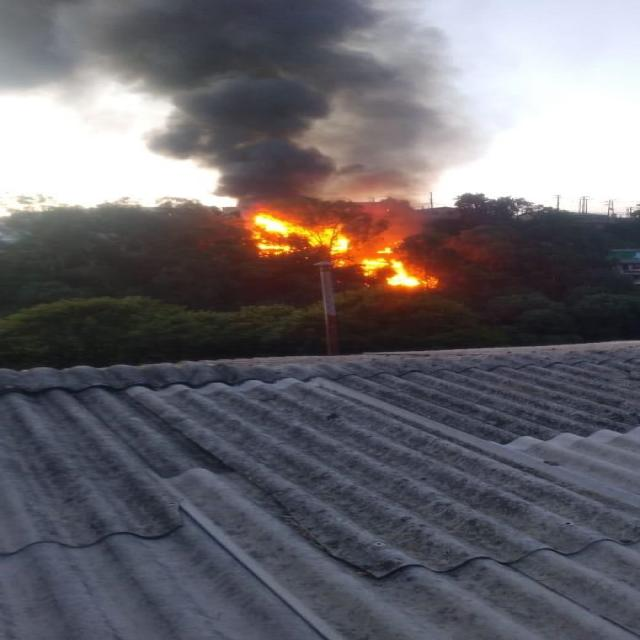fire: (238, 218, 425, 283)
smoke: (176, 1, 353, 193)
